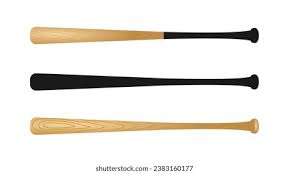baseball bat: (30, 116, 260, 137), (29, 26, 259, 44), (30, 73, 260, 90)
